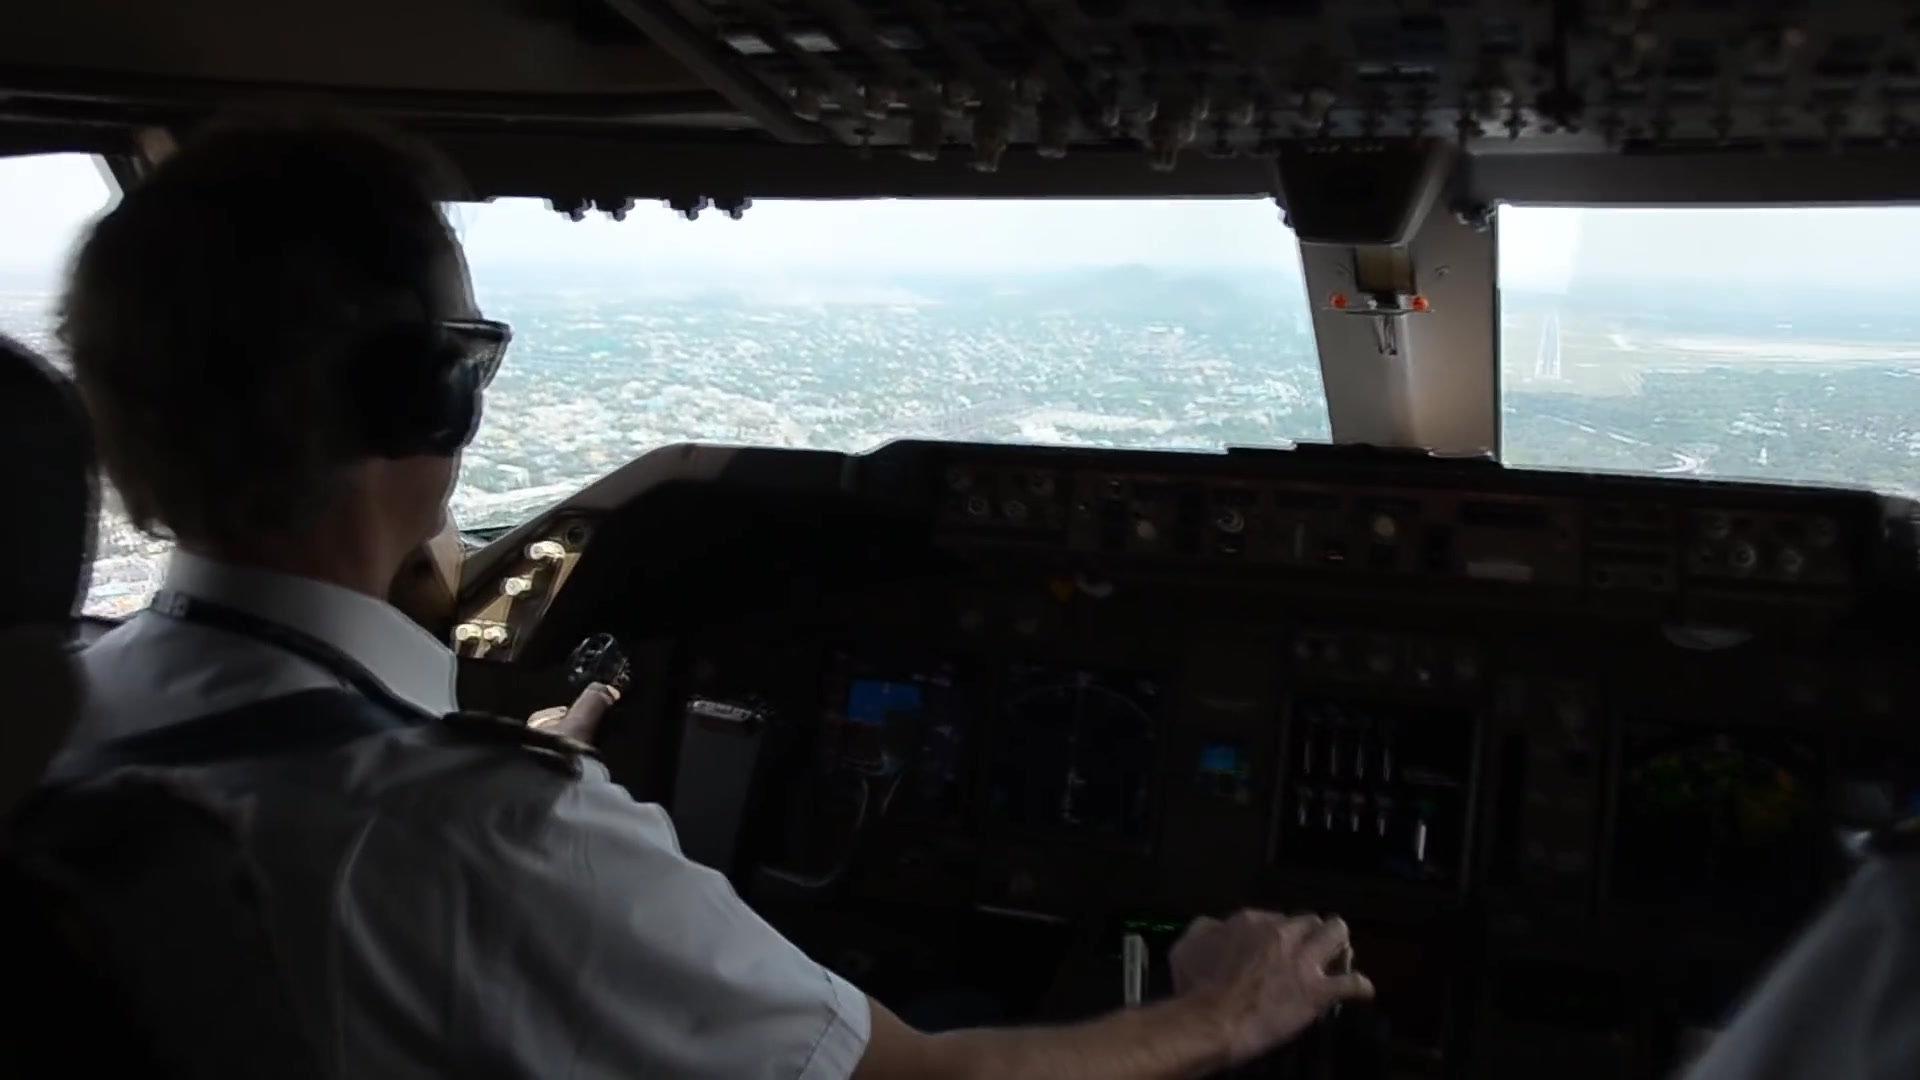runway: (1532, 311, 1561, 381)
